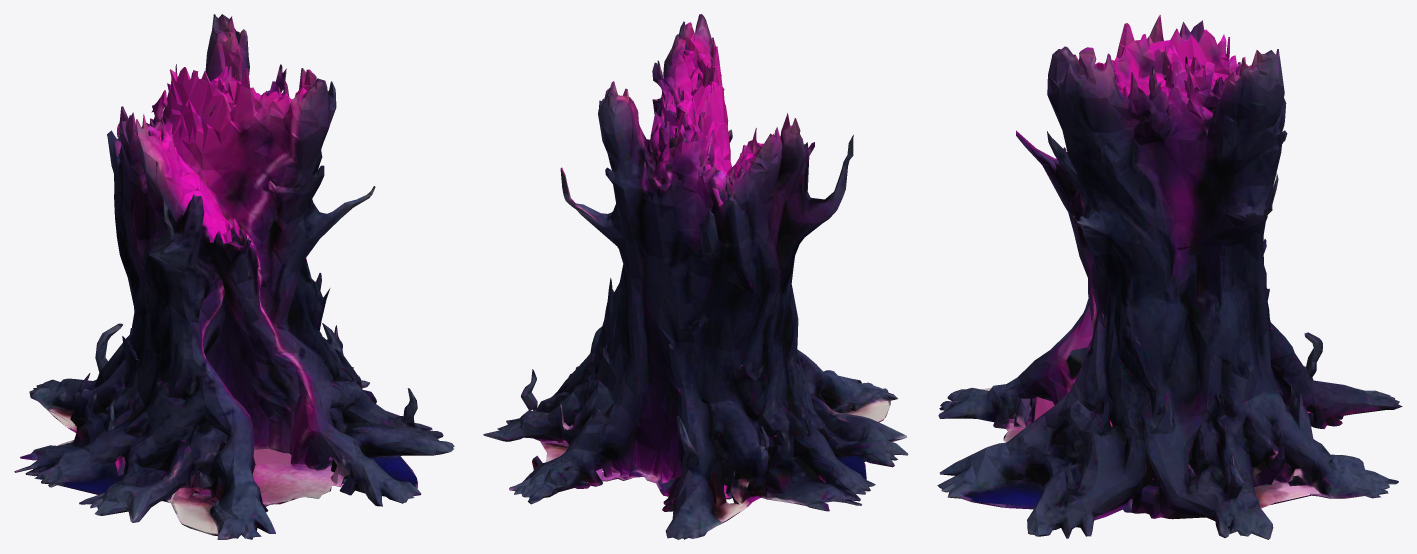
Rendered from root-north-generated-2026-04-19T06-07-51-983Z.low.glb.
3 renders of one model, left to right at view 1: azimuth 30°, elevation 25°; view 2: azimuth 150°, elevation 25°; view 3: azimuth 270°, elevation 25°, orthographic. The views are drawn at different scales.
Visible parts, largest first — view 1: temp_mesh.ply; view 2: temp_mesh.ply; view 3: temp_mesh.ply.
Boxes of the visible parts, x1=… form: temp_mesh.ply: x1=14, y1=14, x2=454, y2=539; temp_mesh.ply: x1=483, y1=14, x2=908, y2=539; temp_mesh.ply: x1=937, y1=15, x2=1402, y2=539.
Bounding box in the file's own units: 1.9 × 1.97 × 1.94.
1 material, 1 textured.
